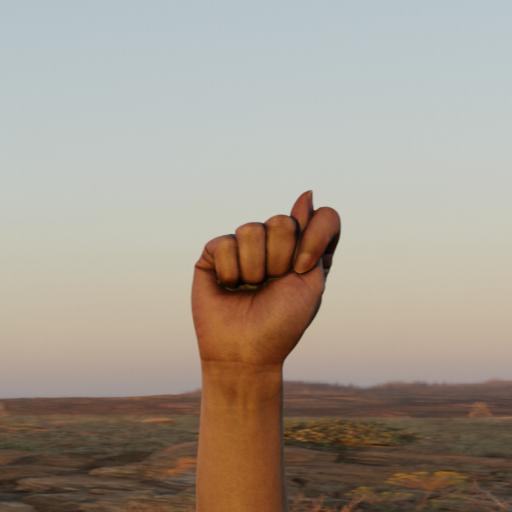T: (184, 187, 346, 368)
